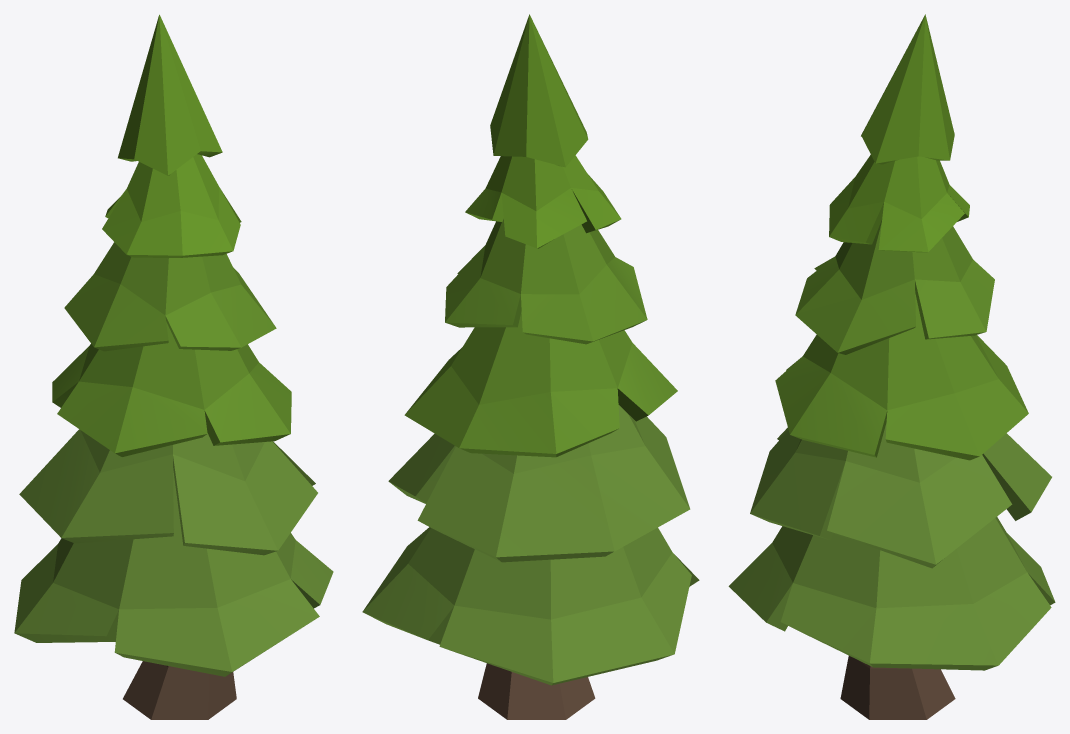
File: tree_pine_2.fbx
3 views of the same model, side by side, from view 1: azimuth 30°, elevation 25°; view 2: azimuth 150°, elevation 25°; view 3: azimuth 270°, elevation 25° (orthographic). The views are drawn at different scales.
Visible parts, largest first — view 1: tree_pine_2; view 2: tree_pine_2; view 3: tree_pine_2.
Part boxes in pixels (bbox=[...]): tree_pine_2: bbox=[14, 14, 333, 719]; tree_pine_2: bbox=[362, 14, 699, 719]; tree_pine_2: bbox=[728, 14, 1055, 719].
Size of the model in its own units: 566 by 1264 by 550.
